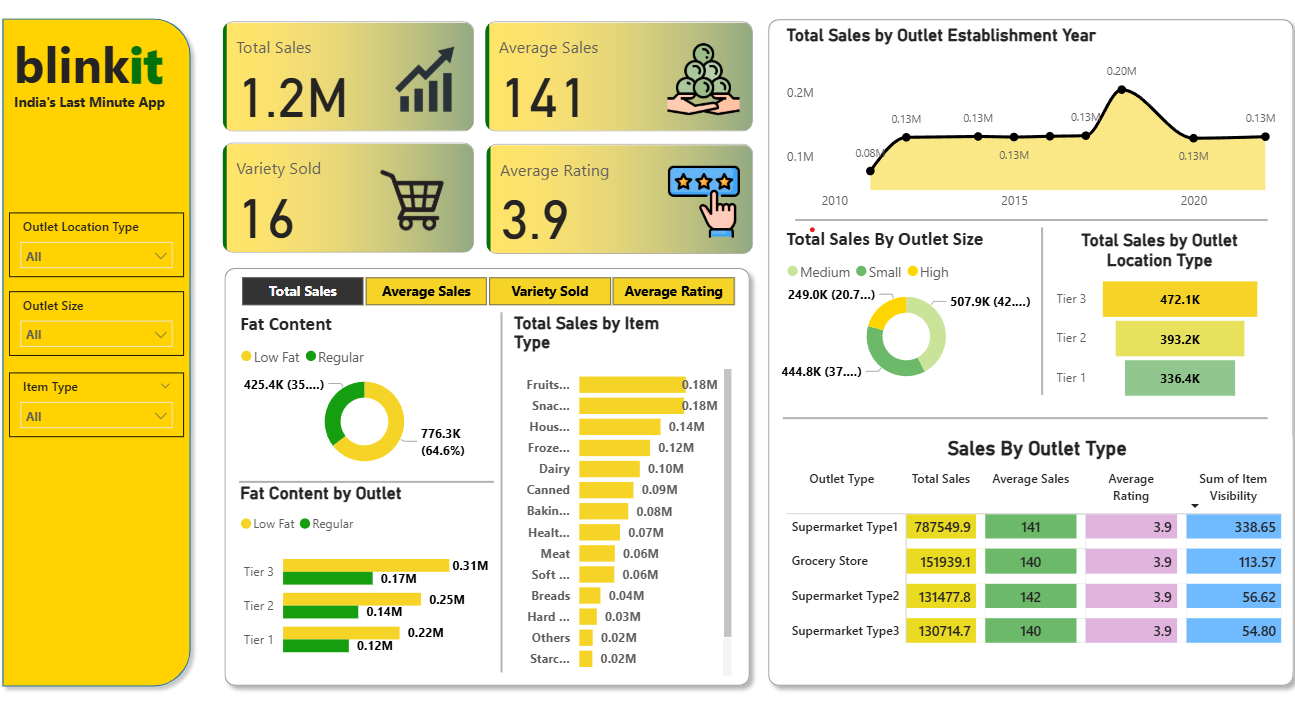

What the dashboard file says about the page in this screenshot:
{"tool":"powerbi","page":{"name":"Page 1","canvas":[1280,720],"ordinal":0},"visuals":[{"type":"shape","box":[0,24.5,200.5,670.1],"z":0},{"type":"textbox","box":[14.7,39.1,171.2,78.3],"z":1000},{"type":"textbox","box":[14.7,100.3,157.7,34.2],"z":2000},{"type":"cardVisual","fields":{"Data":["BlinkIT Grocery Data.Total Sales"]},"box":[218.9,30.6,256.8,118.6],"z":3000},{"type":"cardVisual","fields":{"Data":["BlinkIT Grocery Data.Average Rating"]},"box":[476.9,150.4,271.5,118.6],"z":4000},{"type":"cardVisual","fields":{"Data":["BlinkIT Grocery Data.Items Sold"]},"box":[218.9,149.2,256.8,118.6],"z":5000},{"type":"cardVisual","fields":{"Data":["BlinkIT Grocery Data.Average Sales"]},"box":[475.7,30.6,272.7,118.6],"z":6000},{"type":"shape","box":[216.4,267.8,531.9,426.8],"z":7000},{"type":"donutChart","title":"Fat Content","fields":{"Y":["BlinkIT Grocery Data.Total Sales"],"Category":["BlinkIT Grocery Data.Item Fat Content"]},"box":[236,320.4,253.1,161.4],"z":8000},{"type":"slicer","fields":{"Values":["Metrices.Metrices"]},"box":[216.4,278.8,531.9,41.6],"z":9000},{"type":"clusteredBarChart","title":"Fat Content by Outlet","fields":{"Y":["BlinkIT Grocery Data.Total Sales"],"Category":["BlinkIT Grocery Data.Outlet Location Type"],"Series":["BlinkIT Grocery Data.Item Fat Content"]},"box":[236,486.7,253.1,185.9],"z":10000},{"type":"barChart","fields":{"Y":["BlinkIT Grocery Data.Total Sales"],"Category":["BlinkIT Grocery Data.Item Type"]},"box":[503.8,320.4,222.6,360.7],"z":11000},{"type":"shape","box":[748.4,24.5,531.9,670.1],"z":12000},{"type":"lineChart","fields":{"Category":["BlinkIT Grocery Data.Outlet Establishment Year"],"Y":["BlinkIT Grocery Data.Total Sales"]},"box":[770.4,39.1,491.6,190.8],"z":13000},{"type":"shape","box":[239.7,476.9,249.5,18.3],"z":14000},{"type":"shape","box":[489.1,320.4,14.7,352.2],"z":15000},{"type":"shape","box":[783.8,222.6,462.2,14.7],"z":16000},{"type":"funnel","fields":{"Category":["BlinkIT Grocery Data.Outlet Location Type"],"Y":["BlinkIT Grocery Data.Total Sales"]},"box":[1034.5,239.7,211.6,171.2],"z":17000},{"type":"shape","box":[1016.2,237.2,18.3,163.9],"z":18000},{"type":"donutChart","title":"Total Sales By Outlet Size","fields":{"Y":["BlinkIT Grocery Data.Total Sales"],"Category":["BlinkIT Grocery Data.Outlet Size"]},"box":[770.4,237.2,244.6,161.4],"z":19000},{"type":"pivotTable","title":"Sales By Outlet Type","fields":{"Values":["BlinkIT Grocery Data.Total Sales","BlinkIT Grocery Data.Average Sales","BlinkIT Grocery Data.Average Rating","Sum(BlinkIT Grocery Data.Item Visibility)"],"Rows":["BlinkIT Grocery Data.Outlet Type"]},"box":[770.4,442.7,500.1,229.9],"z":20000},{"type":"shape","box":[771.6,414.5,474.5,18.3],"z":21000},{"type":"slicer","fields":{"Values":["BlinkIT Grocery Data.Outlet Location Type"]},"box":[14.7,222.6,171.2,63.6],"z":22000},{"type":"slicer","fields":{"Values":["BlinkIT Grocery Data.Outlet Size"]},"box":[14.7,299.6,171.2,63.6],"z":23000},{"type":"slicer","fields":{"Values":["BlinkIT Grocery Data.Item Type"]},"box":[14.7,379.1,171.2,63.6],"z":24000}]}

Visuals, with their boxes on the page's 1280x720 design canvas (x1, y1, x2, y2). These are canvas units, not pixel positions in the 1295x703 screenshot, which may show the page scaled, cropped or inside an application window:
shape: 0,24,200,695
textbox: 15,39,186,117
textbox: 15,100,172,134
cardVisual - BlinkIT Grocery Data.Total Sales: 219,31,476,149
cardVisual - BlinkIT Grocery Data.Average Rating: 477,150,748,269
cardVisual - BlinkIT Grocery Data.Items Sold: 219,149,476,268
cardVisual - BlinkIT Grocery Data.Average Sales: 476,31,748,149
shape: 216,268,748,695
"Fat Content" donutChart: 236,320,489,482
slicer - Metrices.Metrices: 216,279,748,320
"Fat Content by Outlet" clusteredBarChart: 236,487,489,673
barChart - BlinkIT Grocery Data.Total Sales x BlinkIT Grocery Data.Item Type: 504,320,726,681
shape: 748,24,1280,695
lineChart - BlinkIT Grocery Data.Outlet Establishment Year x BlinkIT Grocery Data.Total Sales: 770,39,1262,230
shape: 240,477,489,495
shape: 489,320,504,673
shape: 784,223,1246,237
funnel - BlinkIT Grocery Data.Outlet Location Type x BlinkIT Grocery Data.Total Sales: 1034,240,1246,411
shape: 1016,237,1034,401
"Total Sales By Outlet Size" donutChart: 770,237,1015,399
"Sales By Outlet Type" pivotTable: 770,443,1270,673
shape: 772,414,1246,433
slicer - BlinkIT Grocery Data.Outlet Location Type: 15,223,186,286
slicer - BlinkIT Grocery Data.Outlet Size: 15,300,186,363
slicer - BlinkIT Grocery Data.Item Type: 15,379,186,443
